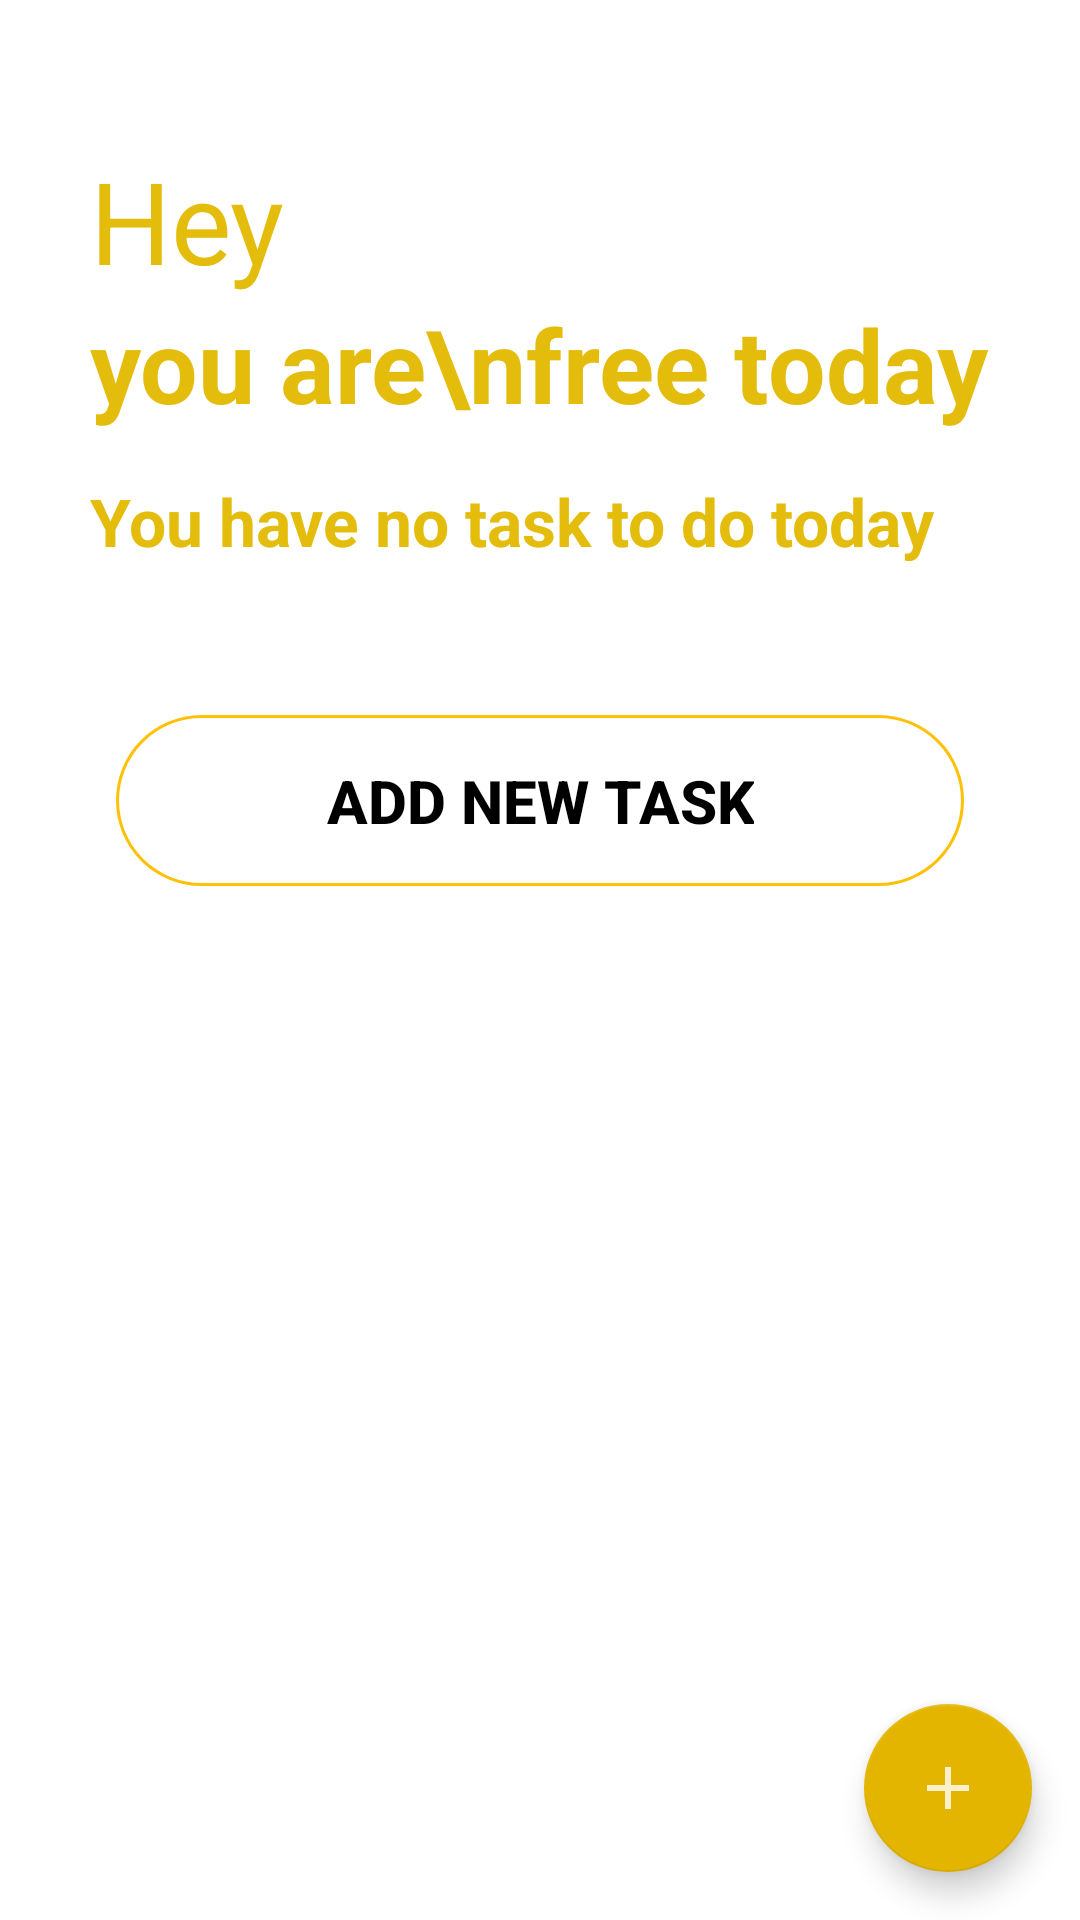

Where to tap for icons on this 1080px×1920px app screen, as point (x, y):
Add Task: point (948, 1788)
